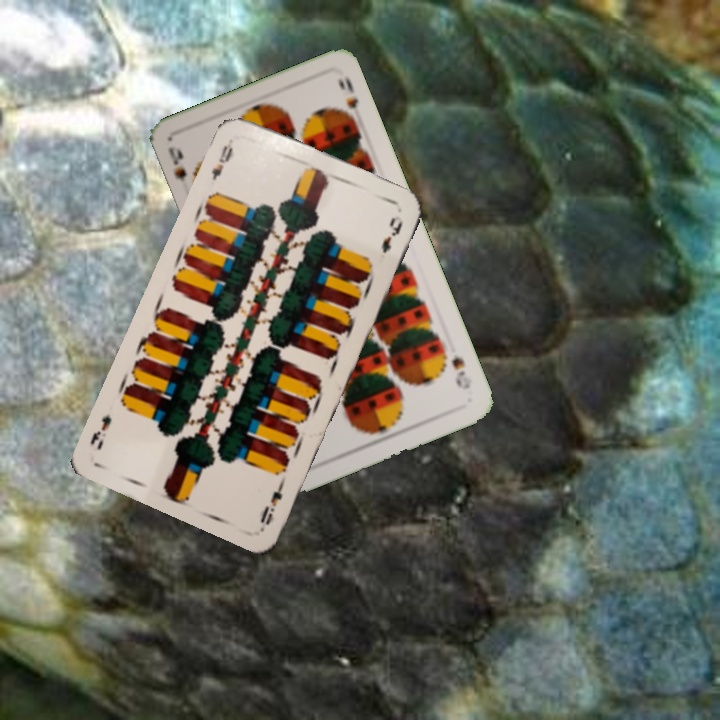E9: (256, 475, 288, 531), (207, 134, 236, 183)
S9: (448, 352, 475, 392), (164, 142, 189, 185)
